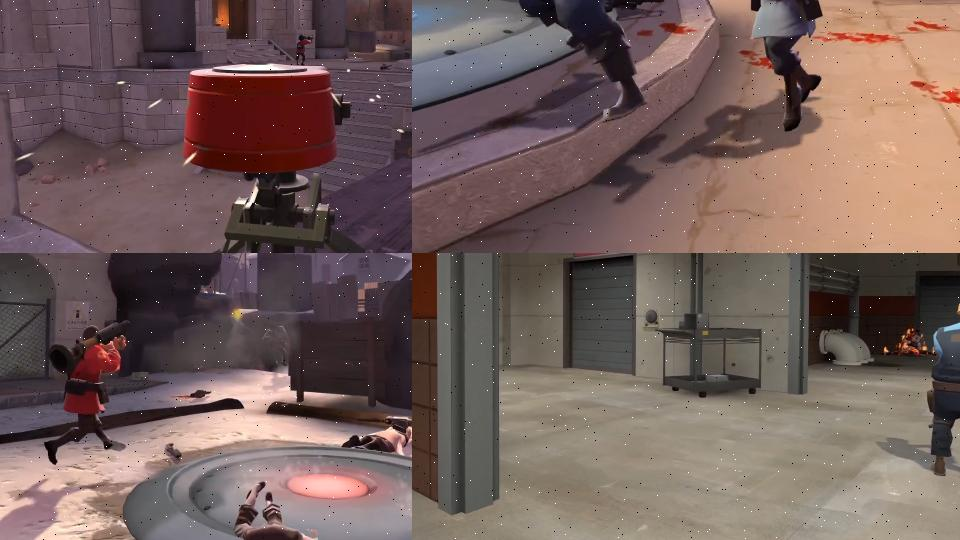Enemy: (412, 0, 646, 116), (638, 0, 820, 127), (44, 319, 128, 464), (928, 295, 960, 495), (226, 480, 321, 540), (342, 415, 412, 455), (263, 322, 291, 367), (295, 34, 311, 65)
